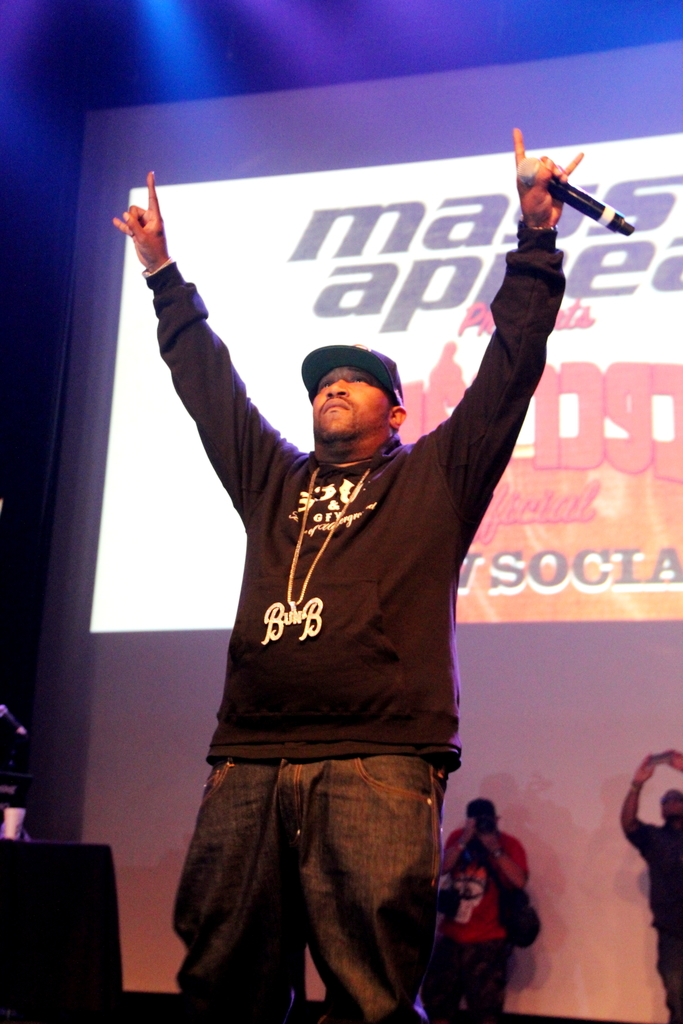Human_hand: (109, 172, 190, 271), (511, 124, 587, 221), (634, 751, 657, 785), (480, 830, 502, 853), (463, 815, 478, 843), (667, 748, 682, 771)
